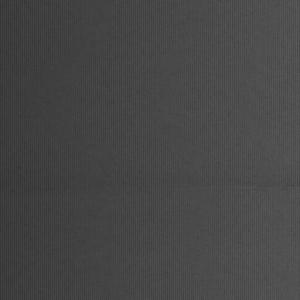Wrinkle: (1, 164, 300, 216)
